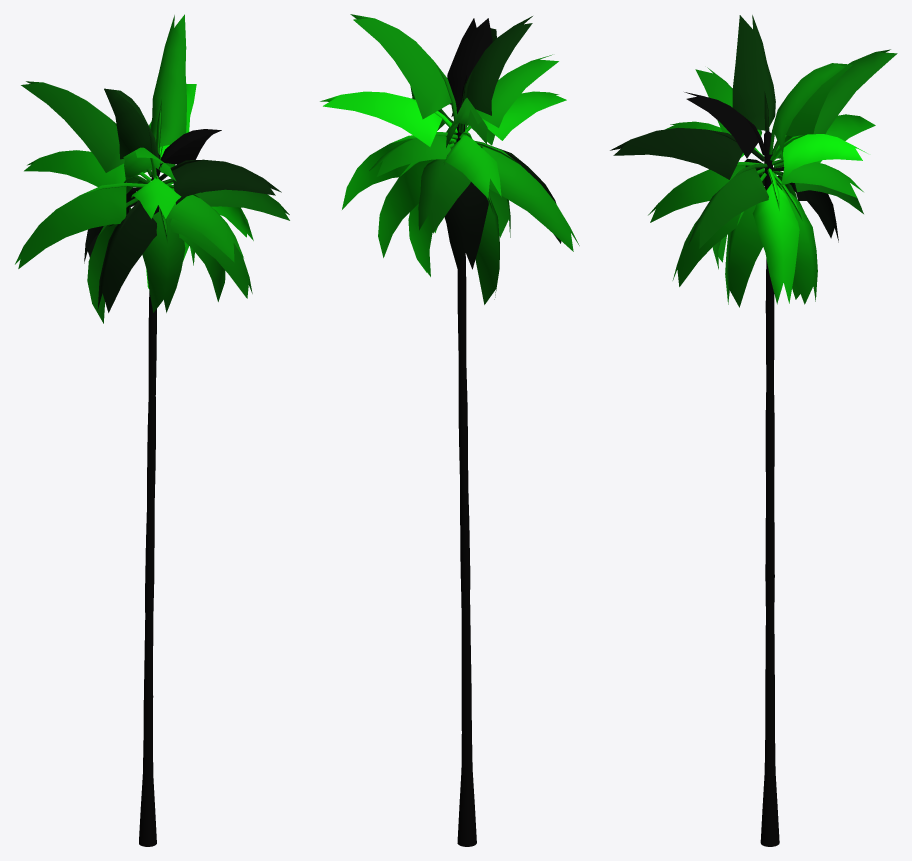
File: M_P10_Tree_9.fbx
The picture shows the model from 3 angles, left to right: view 1: azimuth 30°, elevation 25°; view 2: azimuth 150°, elevation 25°; view 3: azimuth 270°, elevation 25°; orthographic projection. The views are drawn at different scales.
Visible parts, largest first — view 1: Palm_2_1; view 2: Palm_2_1; view 3: Palm_2_1.
Part boxes in pixels (x1,y1,x2,y2): Palm_2_1: (15,14,289,846); Palm_2_1: (320,14,579,846); Palm_2_1: (610,15,897,846).
Bounding box in the file's own units: 268 × 884 × 284.
